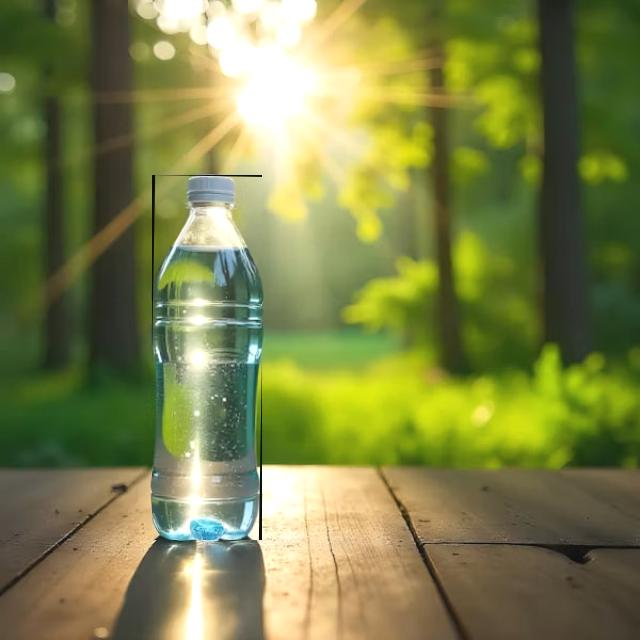Bottle: (151, 175, 261, 539)
